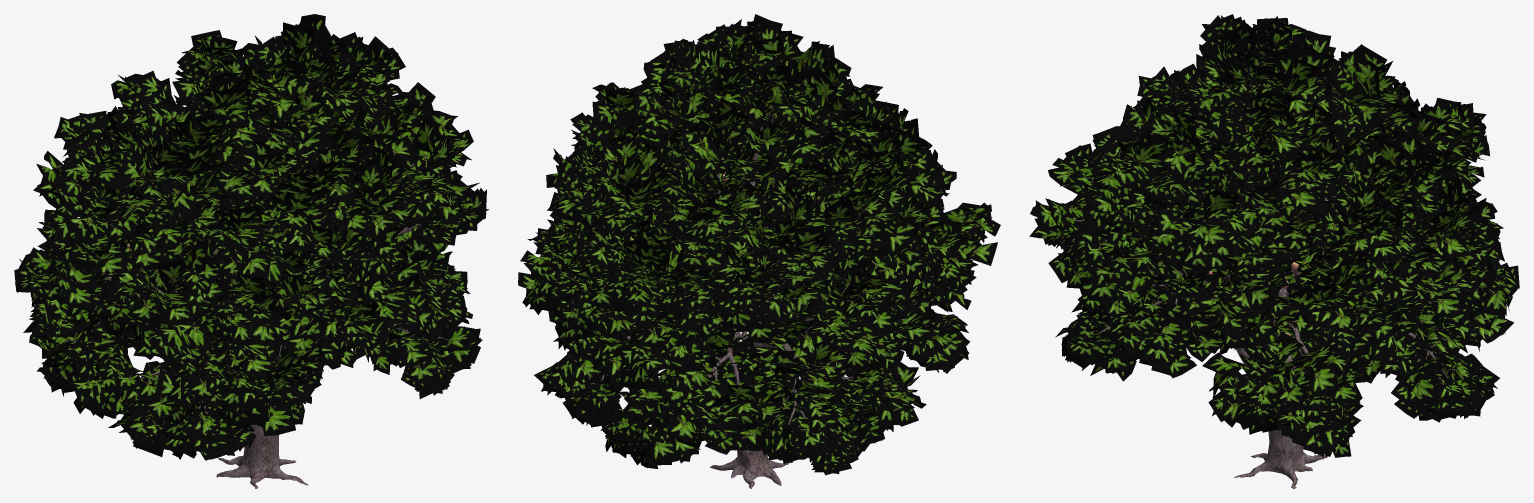
Rendered from mango_tree.glb.
The picture shows the model from 3 angles, left to right: view 1: azimuth 30°, elevation 25°; view 2: azimuth 150°, elevation 25°; view 3: azimuth 270°, elevation 25°; orthographic projection. The views are drawn at different scales.
Visible parts, largest first — view 1: leaves, tree; view 2: leaves, tree; view 3: leaves, tree.
Part boxes in pixels (bbox=[...]): leaves: bbox=[14, 14, 489, 460]; tree: bbox=[50, 66, 449, 488]; leaves: bbox=[518, 14, 1000, 475]; tree: bbox=[601, 62, 907, 488]; leaves: bbox=[1029, 14, 1519, 457]; tree: bbox=[1069, 92, 1449, 488].
Size of the model in its own units: 6.69 by 6.86 by 6.76.
3 materials, 3 textured.
